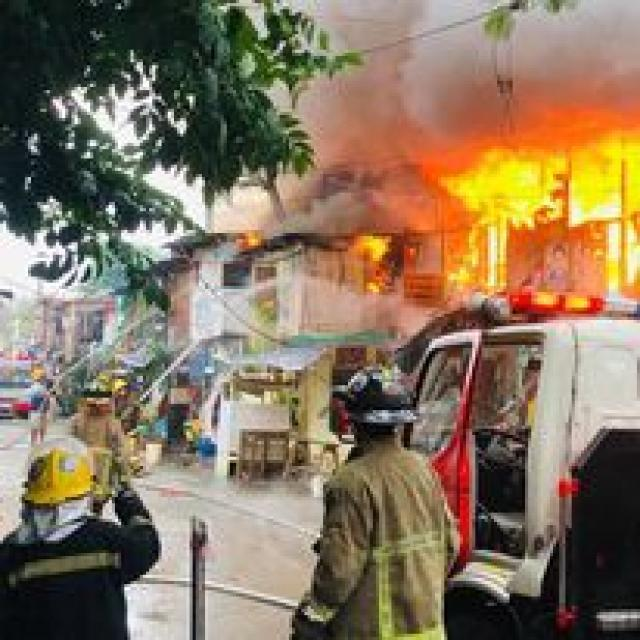Fire: (442, 154, 640, 277)
Smoke: (331, 9, 640, 163), (300, 167, 440, 243)
